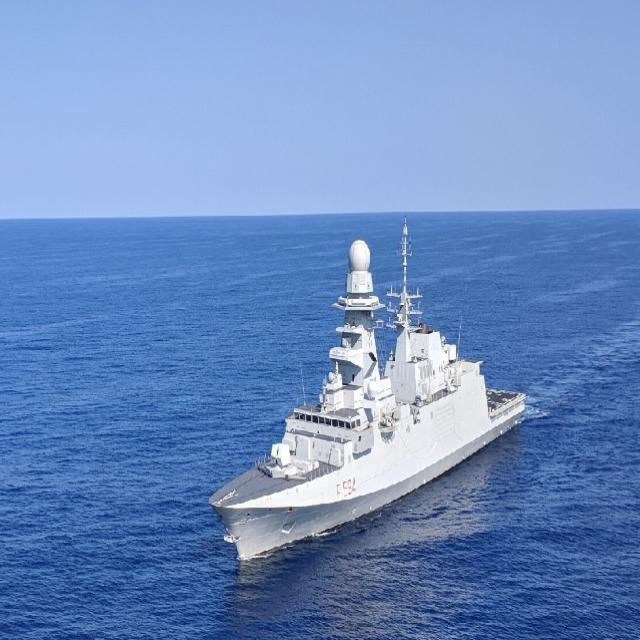navalvessels: (208, 185, 537, 576)
